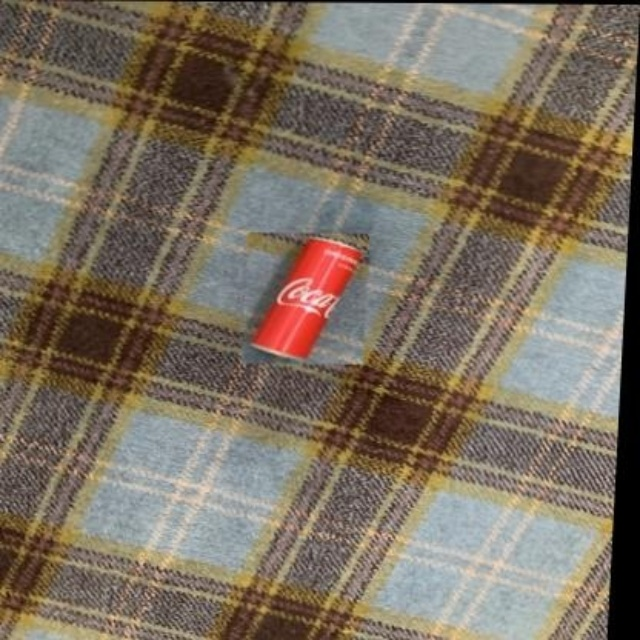trash: (251, 237, 362, 357)
